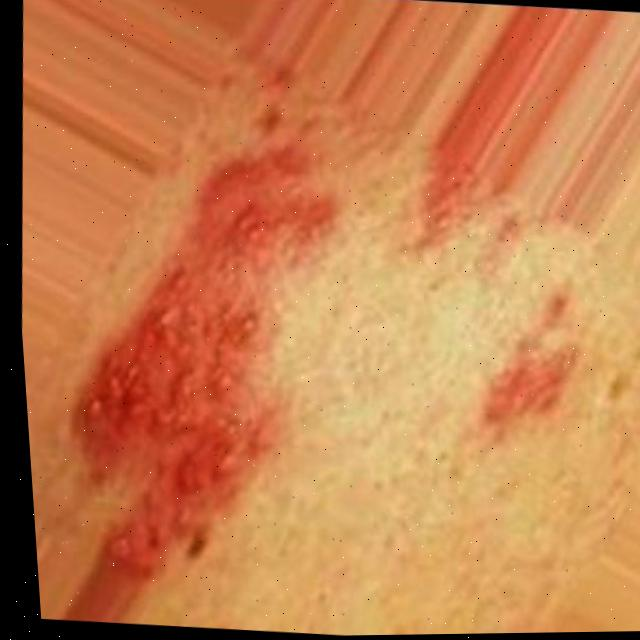Shingles: (49, 143, 349, 571), (472, 334, 572, 436), (424, 189, 474, 252)
